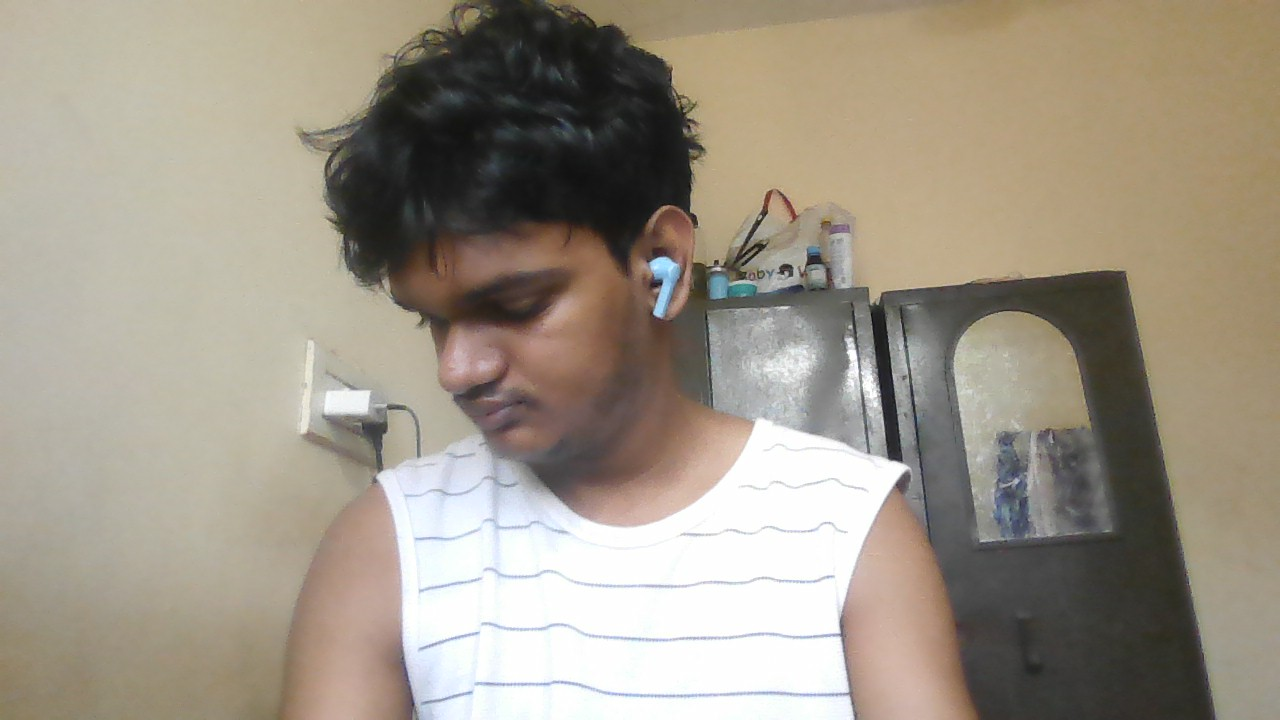earphone: (649, 256, 682, 318)
